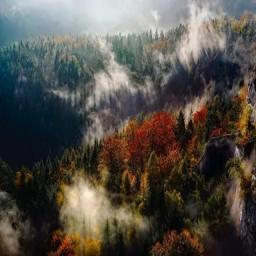Low smoke: (66, 183, 131, 245), (82, 65, 138, 128), (181, 12, 231, 69)
